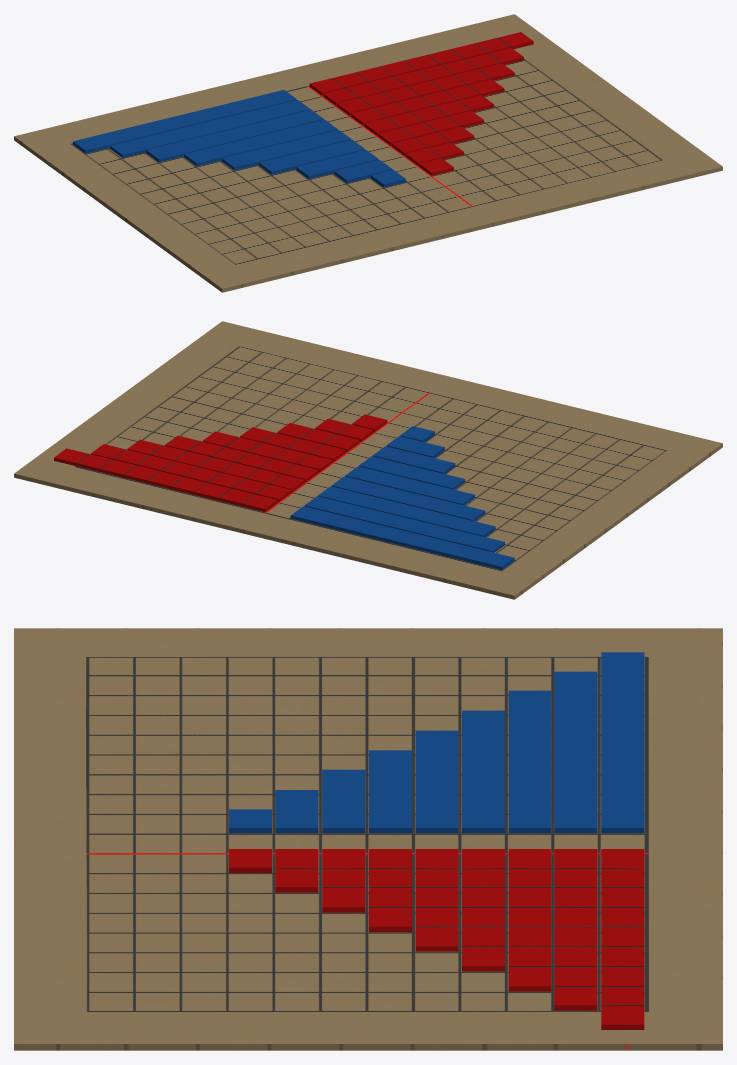
Rendered from board.fbx.
The picture shows the model from 3 angles, top to bottom: view 1: azimuth 30°, elevation 25°; view 2: azimuth 150°, elevation 25°; view 3: azimuth 270°, elevation 25°; orthographic projection. The views are drawn at different scales.
Visible parts, largest first — view 1: board_Board1, polySurface5, polySurface14, polySurface17, polySurface8, polySurface13, polySurface4, polySurface7, polySurface16, polySurface15, polySurface6, polySurface10 (+5 smaller); view 2: board_Board1, polySurface14, polySurface5, polySurface8, polySurface17, polySurface4, polySurface13, polySurface7, polySurface16, polySurface6, polySurface15, polySurface1 (+5 smaller); view 3: board_Board1, polySurface14, polySurface5, polySurface17, polySurface8, polySurface13, polySurface4, polySurface16, polySurface7, polySurface15, polySurface6, polySurface1 (+7 smaller).
Part boxes in pixels (x1,y1,x2,y2): board_Board1: (14, 14, 722, 292); polySurface5: (309, 32, 533, 95); polySurface14: (73, 90, 296, 153); polySurface17: (110, 100, 310, 157); polySurface8: (323, 48, 523, 105); polySurface13: (146, 109, 323, 162); polySurface4: (337, 63, 514, 115); polySurface7: (350, 79, 504, 125); polySurface16: (184, 120, 337, 166); polySurface15: (221, 129, 351, 170); polySurface6: (364, 95, 493, 135); polySurface10: (259, 139, 364, 174); board_Board1: (14, 321, 722, 599); polySurface14: (290, 506, 514, 569); polySurface5: (54, 448, 277, 512); polySurface8: (91, 444, 291, 501); polySurface17: (304, 496, 504, 552); polySurface4: (127, 439, 304, 492); polySurface13: (318, 486, 495, 536); polySurface7: (165, 435, 318, 482); polySurface16: (331, 476, 485, 521); polySurface6: (202, 431, 332, 472); polySurface15: (345, 466, 474, 505); polySurface1: (240, 427, 345, 462); board_Board1: (14, 628, 722, 1050); polySurface14: (601, 652, 644, 833); polySurface5: (601, 849, 644, 1029); polySurface17: (554, 671, 597, 833); polySurface8: (554, 849, 597, 1010); polySurface13: (508, 690, 551, 833); polySurface4: (508, 849, 551, 991); polySurface16: (462, 710, 504, 833); polySurface7: (462, 849, 504, 971); polySurface15: (415, 730, 458, 833); polySurface6: (415, 849, 458, 951); polySurface1: (369, 849, 411, 932).
Size of the model in its own units: 26.13 by 0.36 by 18.83.
Materials: 3 (3 with a texture image).
